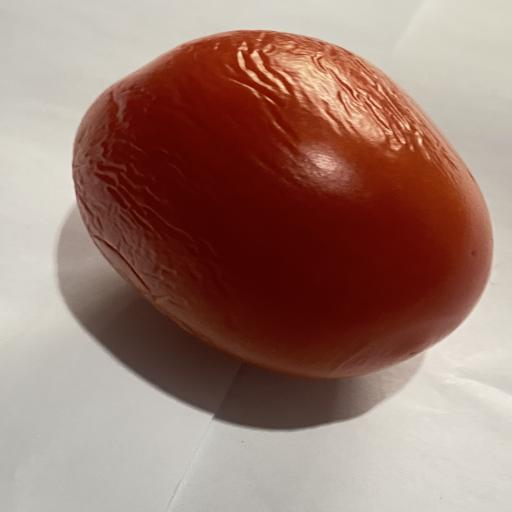spoiled: (73, 31, 492, 378)
